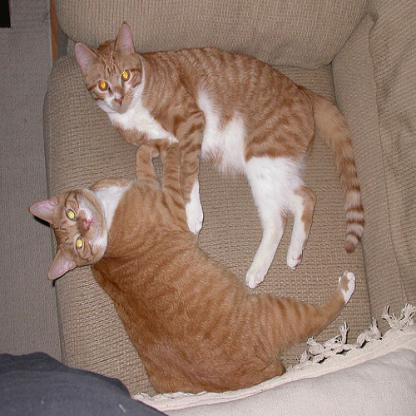cat: (28, 141, 356, 395), (72, 21, 364, 290)
chair: (41, 0, 415, 415)
